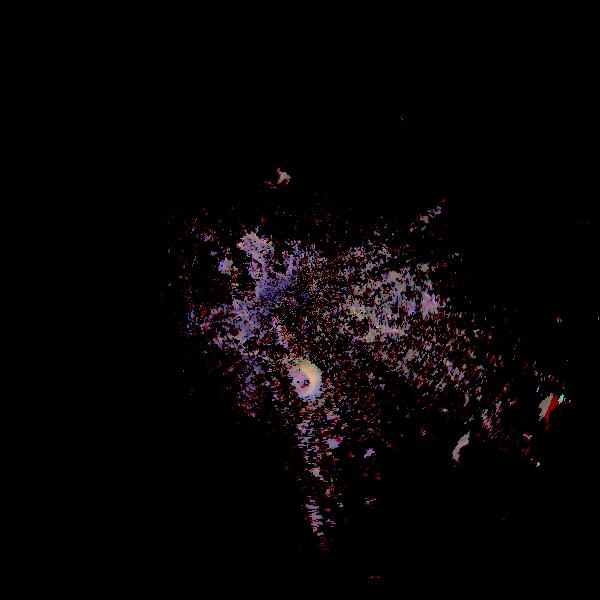roost: (449, 433, 491, 475), (283, 358, 325, 400), (540, 396, 579, 435), (257, 161, 287, 191)
